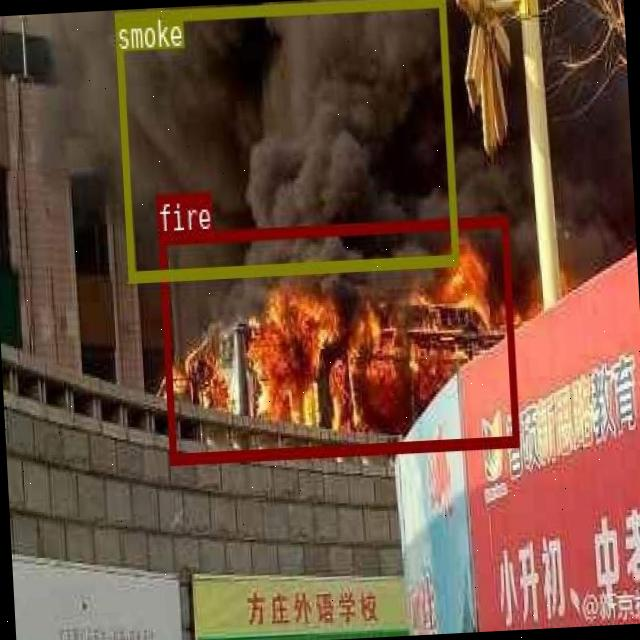fire: (157, 214, 519, 462)
smoke: (113, 0, 458, 281)
